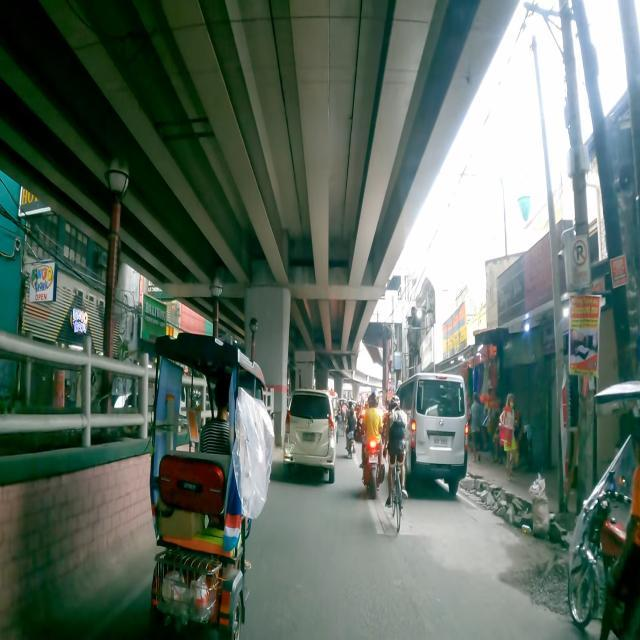bike: (382, 394, 410, 534)
car: (394, 373, 469, 498), (282, 388, 336, 483)
motorcycle: (360, 393, 384, 500), (344, 400, 357, 459)
tricycle: (148, 331, 276, 640), (569, 378, 640, 640)
